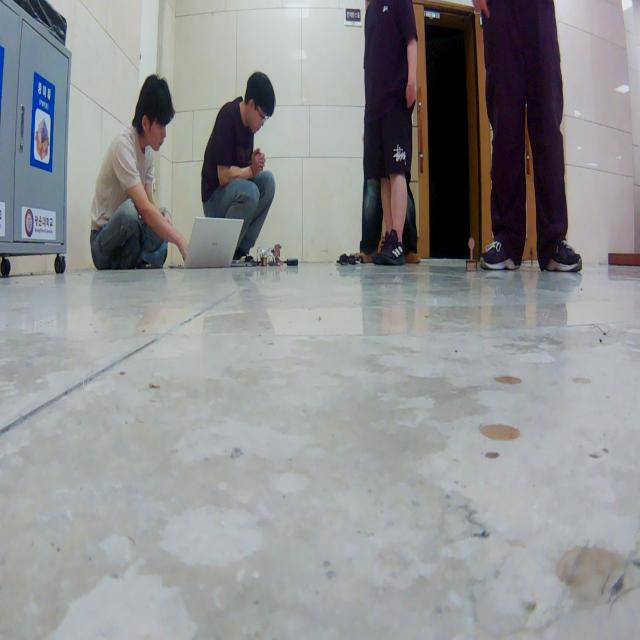target: (465, 236, 478, 272)
